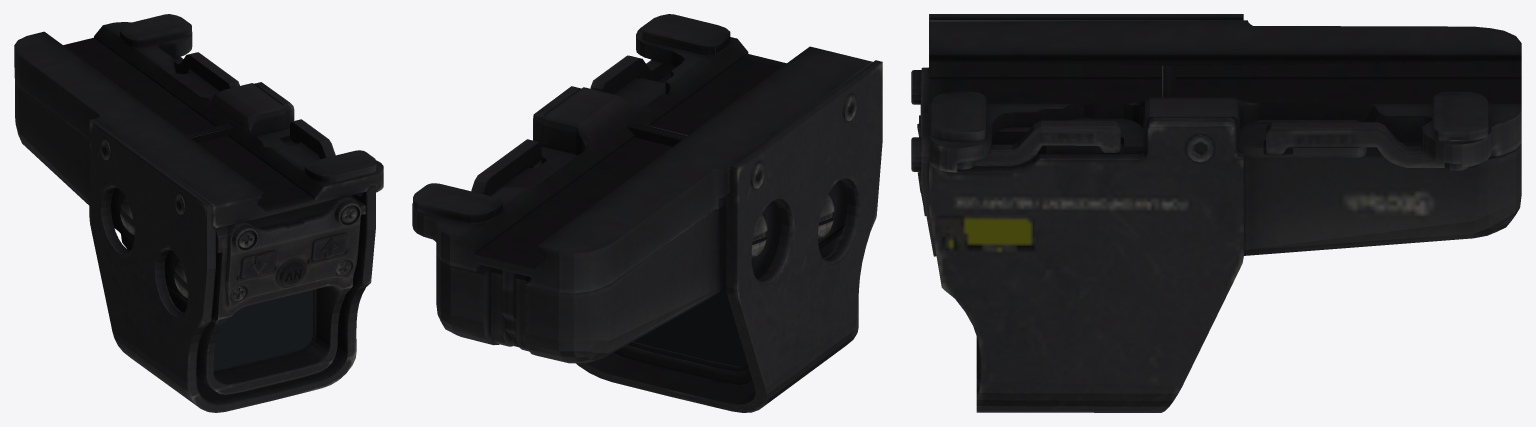
3 renders of one model, left to right at view 1: azimuth 30°, elevation 25°; view 2: azimuth 150°, elevation 25°; view 3: azimuth 270°, elevation 25°, orthographic. The views are drawn at different scales.
Parts seen in each view (by area): view 1: TW_570fd6c2d2720bc6458b457f_PZ_Import; view 2: TW_570fd6c2d2720bc6458b457f_PZ_Import; view 3: TW_570fd6c2d2720bc6458b457f_PZ_Import.
Part boxes in pixels (x1,y1,x2,y2): TW_570fd6c2d2720bc6458b457f_PZ_Import: (14,14,383,412); TW_570fd6c2d2720bc6458b457f_PZ_Import: (412,14,882,412); TW_570fd6c2d2720bc6458b457f_PZ_Import: (911,14,1521,412).
Size of the model in its own units: 0.0347 by 0.0737 by 0.041.
1 material, 1 textured.
